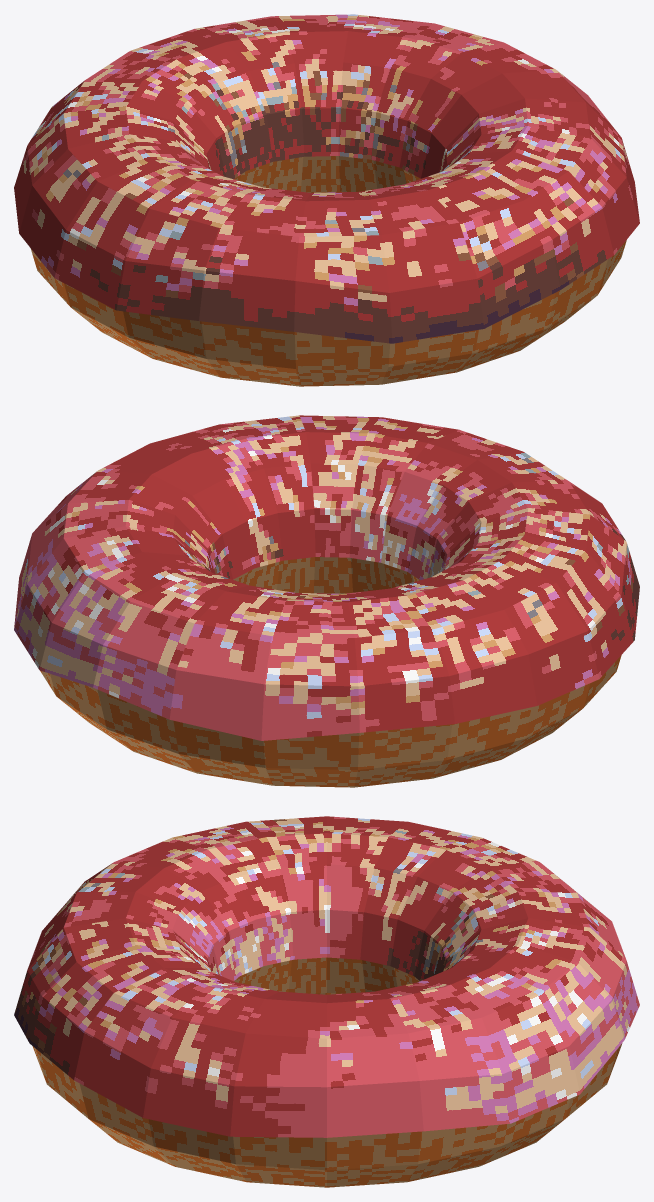
The model's file is donut_3.glb.
3 renders of one model, top to bottom at view 1: azimuth 30°, elevation 25°; view 2: azimuth 150°, elevation 25°; view 3: azimuth 270°, elevation 25°, orthographic.
Parts seen in each view (by area): view 1: doughnut_ps_baked; view 2: doughnut_ps_baked; view 3: doughnut_ps_baked.
Boxes of the visible parts, left/top/right/bottom form: doughnut_ps_baked: left=14, top=14, right=639, bottom=386; doughnut_ps_baked: left=14, top=415, right=639, bottom=787; doughnut_ps_baked: left=14, top=816, right=639, bottom=1187.
Size of the model in its own units: 1.28 by 0.3887 by 1.28.
1 material, 1 textured.
